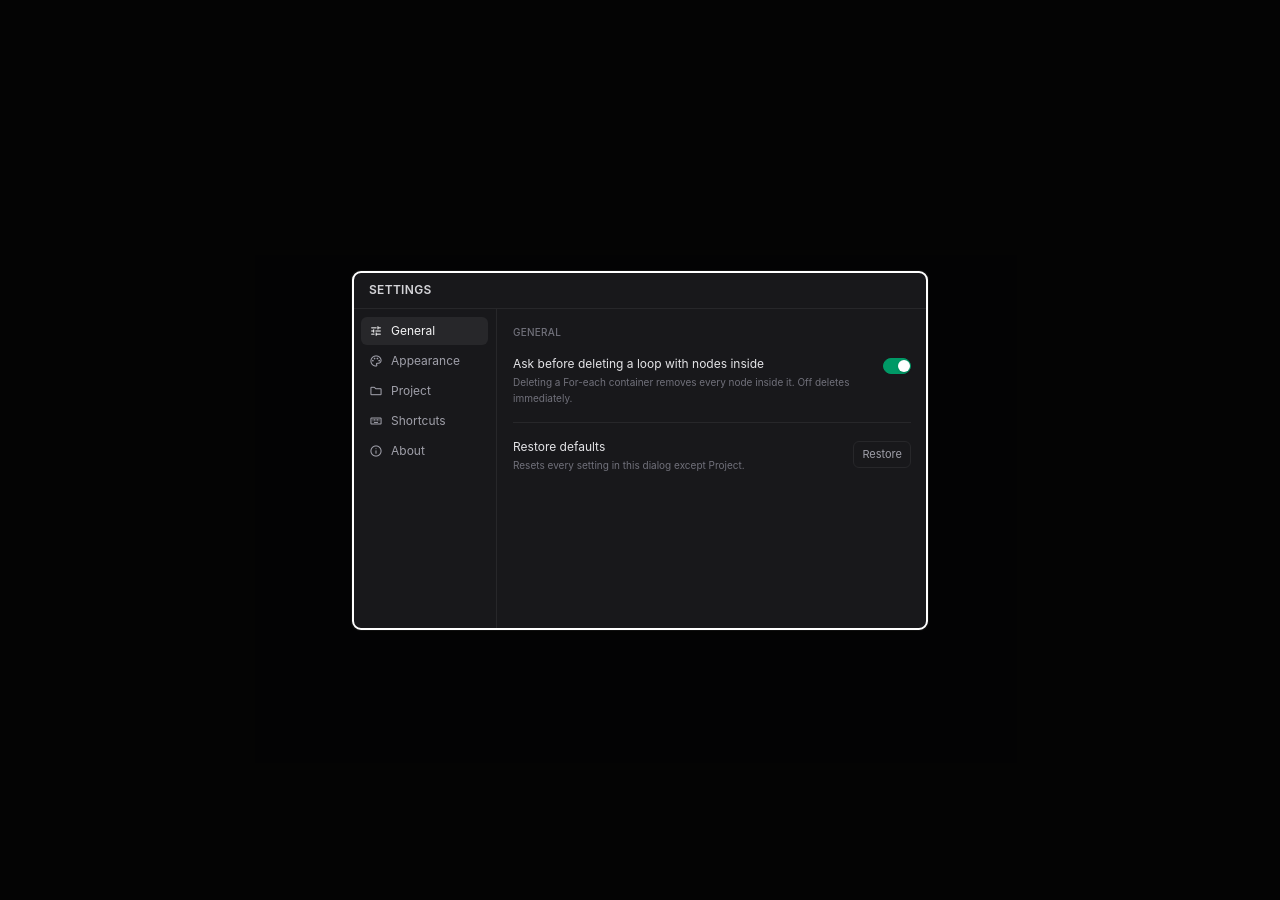
Test: SettingsDialog › switches sections from the nav
Click the button "Shortcuts" at (424, 420), box x1=361 y1=406 x2=488 y2=434
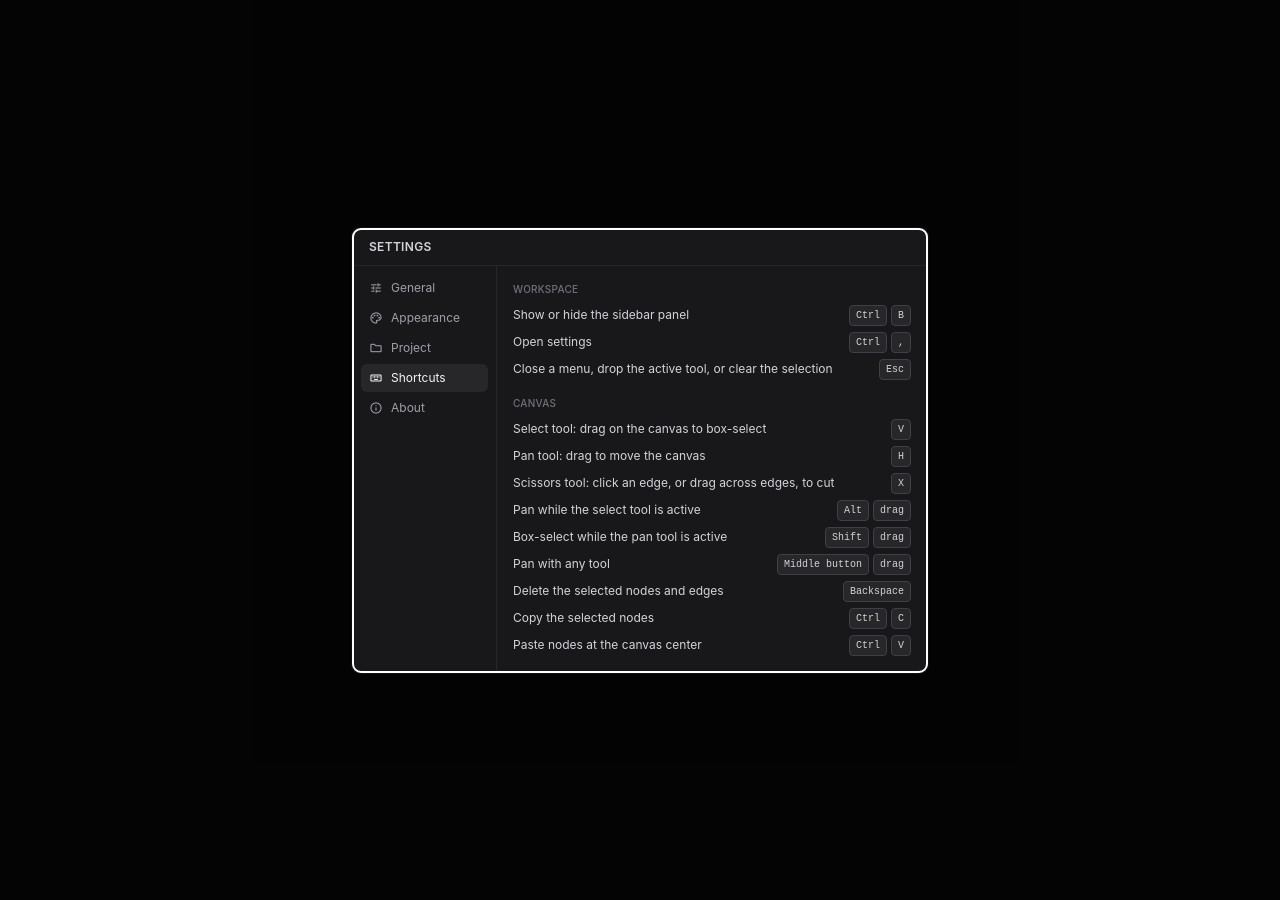
Expected: the text "Open settings" is shown, x1=513 y1=334 x2=592 y2=350
